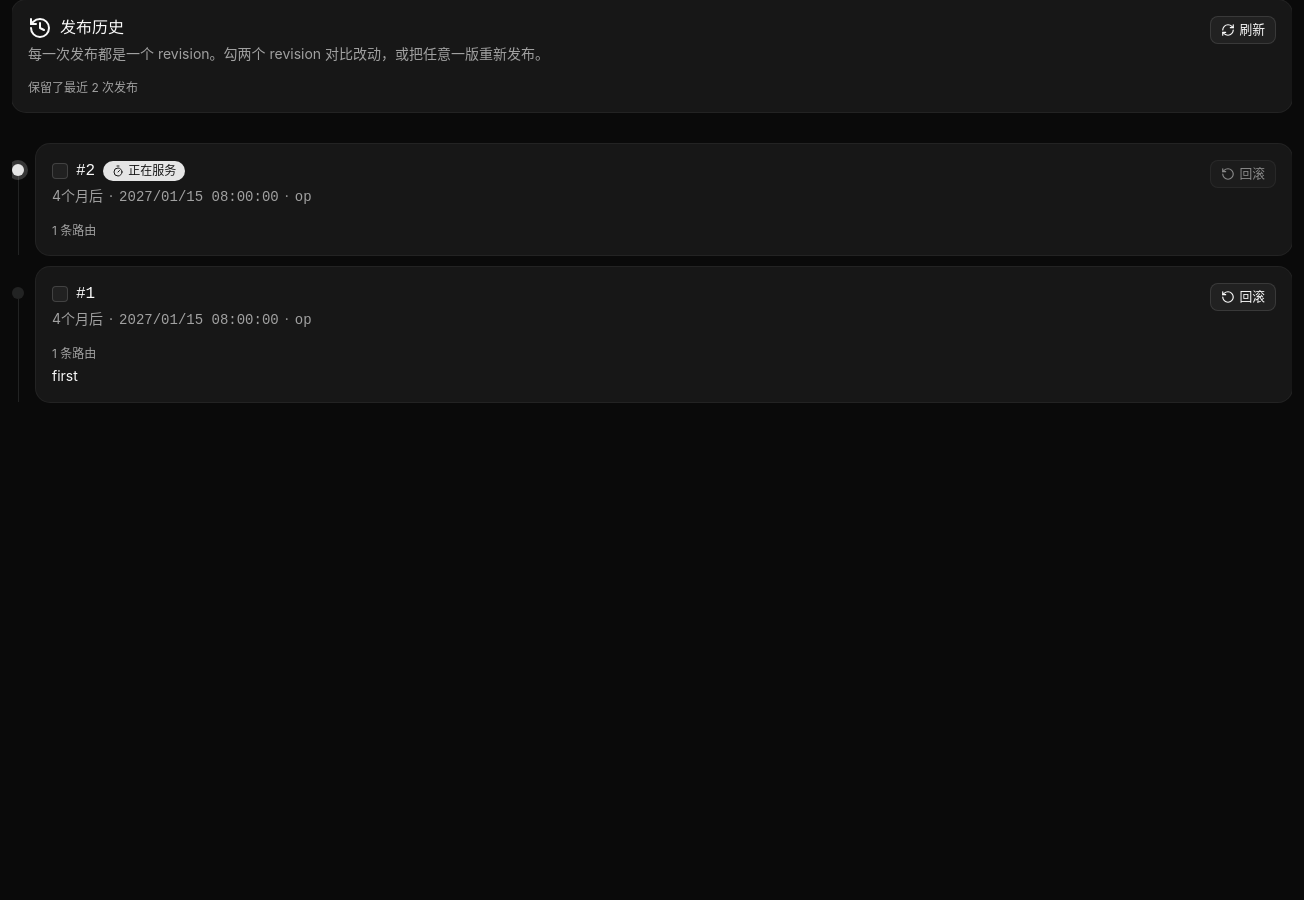
Test: HistoryView 发布历史 › 危险字段带上服务端的判定与面板自己的中文后果
Click the checkbox named "把 revision 2 选进对比" at (60, 171), box [52, 163, 68, 179]
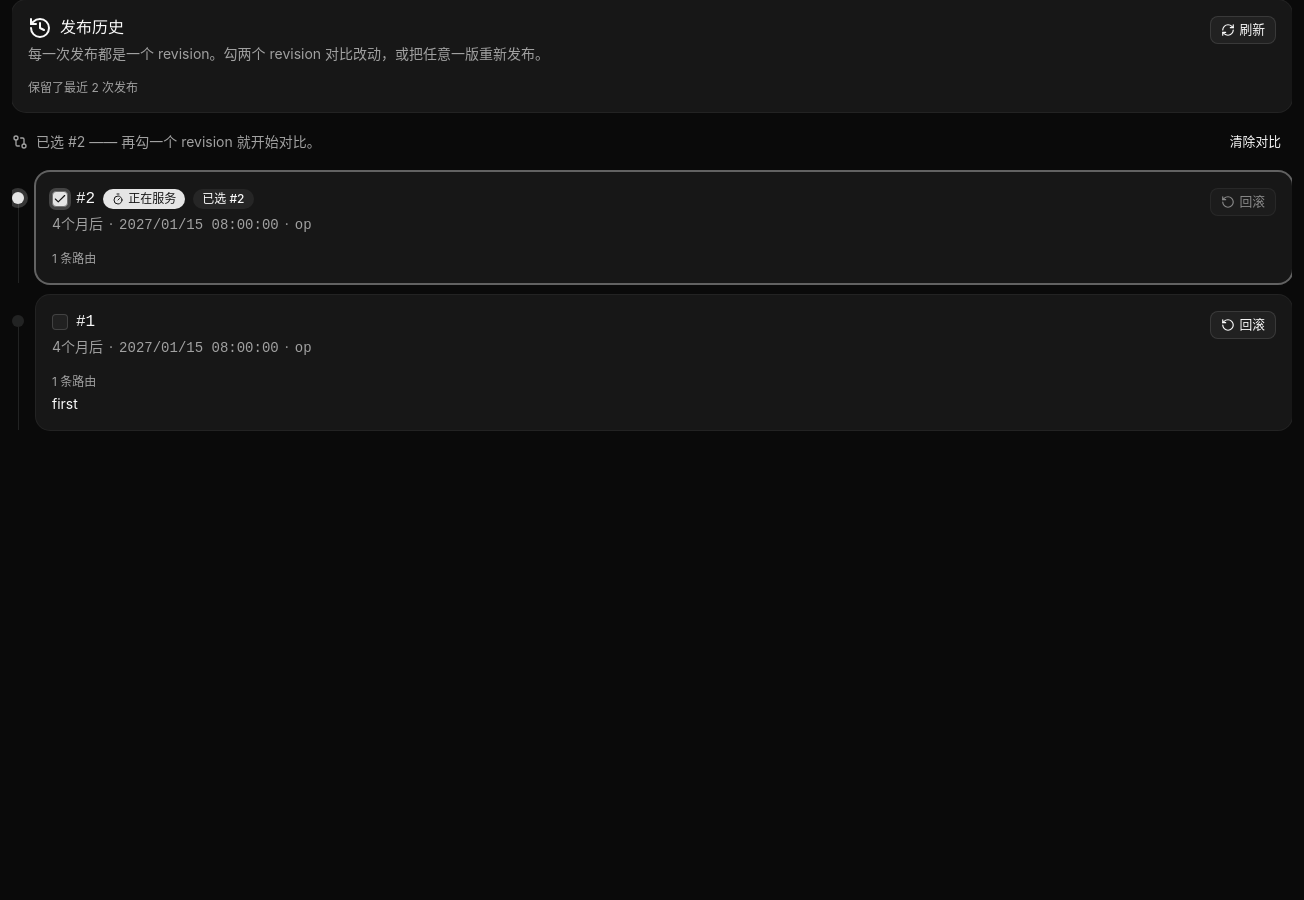
Click the checkbox named "把 revision 1 选进对比" at (60, 322), box [52, 314, 68, 330]
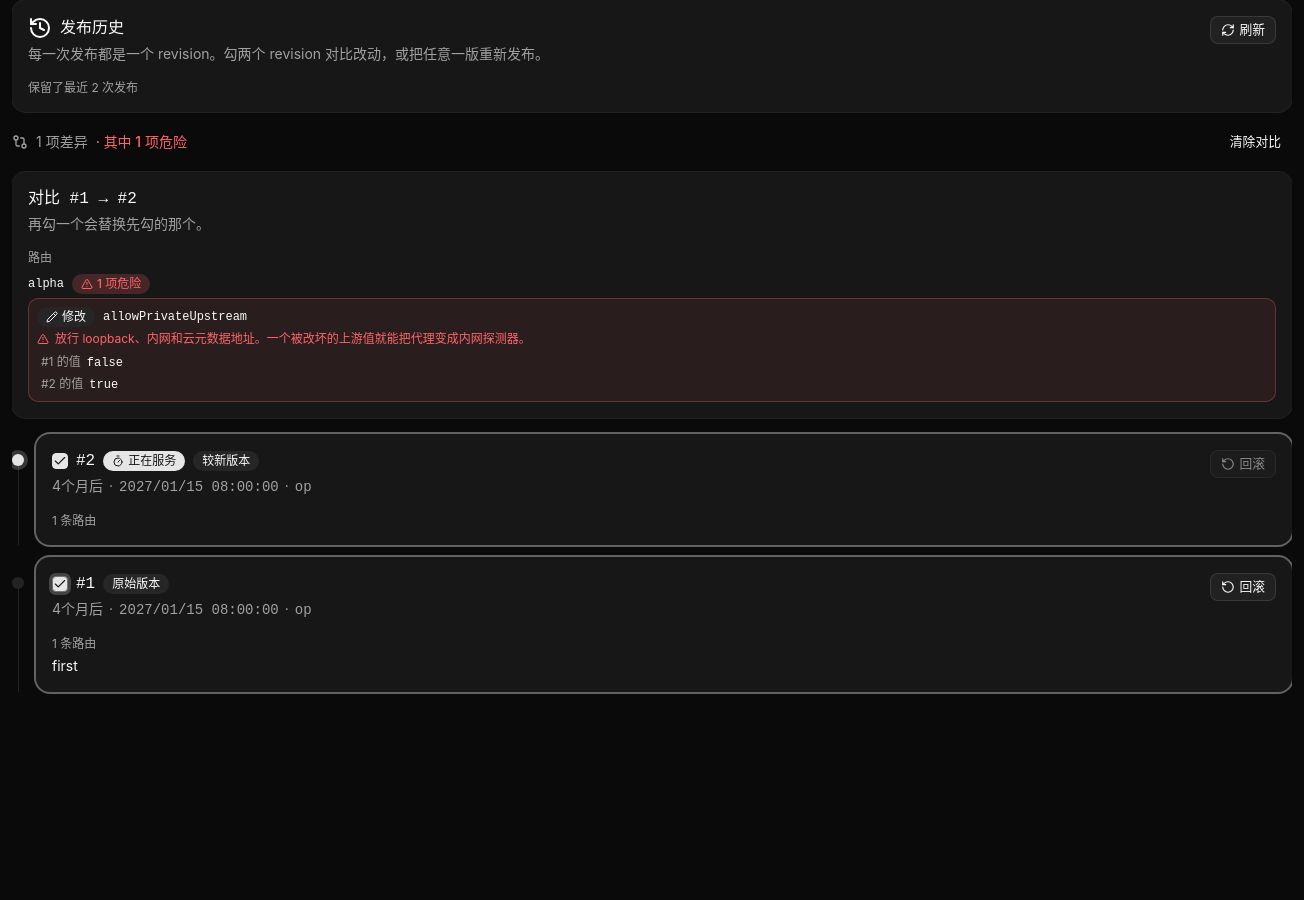
Now the text "放行 loopback、内网和云元数据地址。一个被改坏的上游值就能把代理变成内网探测器。" is shown, box [55, 331, 531, 347]
Now the text "· 其中 1 项危险" is shown, box [96, 132, 187, 152]
